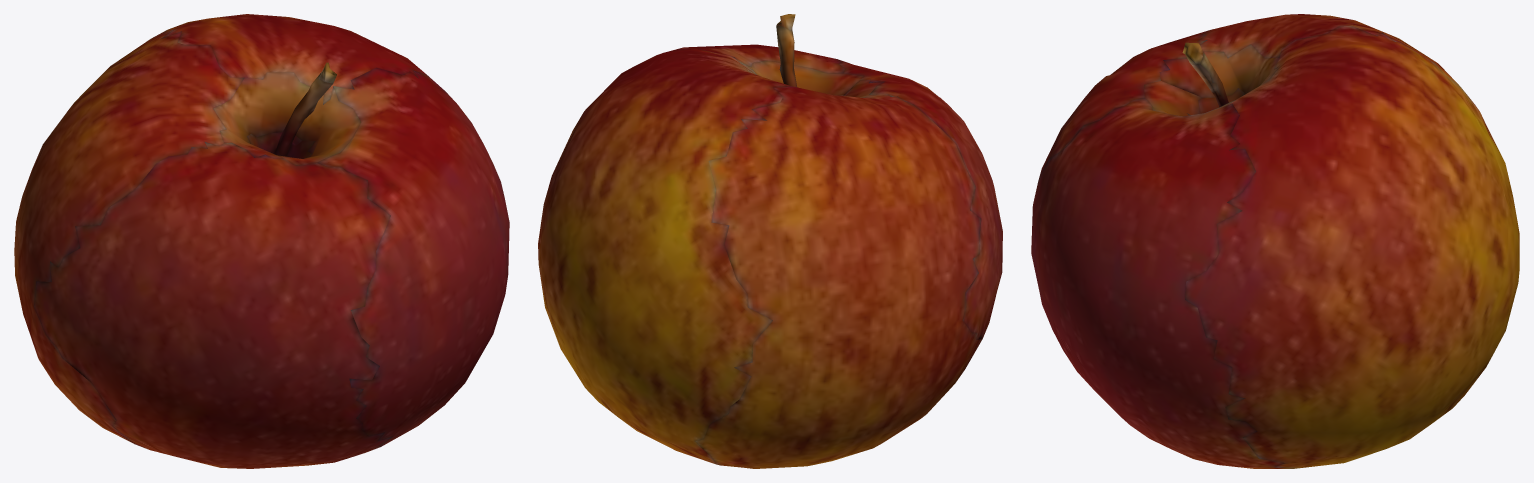
The model's file is apple.glb.
3 views of the same model, side by side, from view 1: azimuth 30°, elevation 25°; view 2: azimuth 150°, elevation 25°; view 3: azimuth 270°, elevation 25° (orthographic). The views are drawn at different scales.
Visible parts, largest first — view 1: food_apple_01; view 2: food_apple_01; view 3: food_apple_01.
Part boxes in pixels (x1=…): food_apple_01: x1=14, y1=14, x2=509, y2=468; food_apple_01: x1=538, y1=14, x2=1002, y2=468; food_apple_01: x1=1031, y1=14, x2=1519, y2=468.
Size of the model in its own units: 0.0975 by 0.0854 by 0.0958.
1 material, 1 textured.
